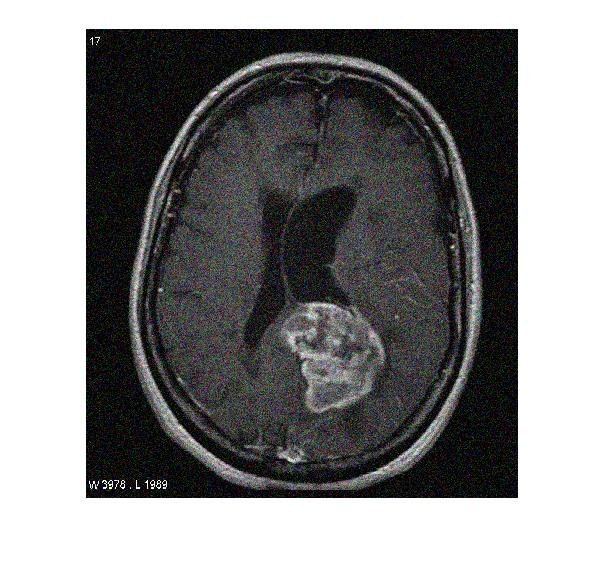Brain_Cancer: (275, 301, 393, 411)
